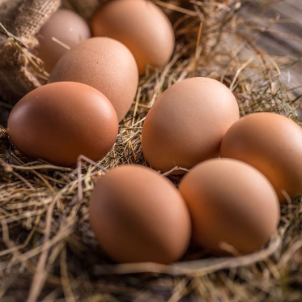egg: (81, 160, 193, 272), (180, 153, 288, 268), (140, 76, 243, 178), (3, 79, 121, 168), (48, 32, 139, 132), (220, 105, 302, 199), (86, 1, 178, 72)
